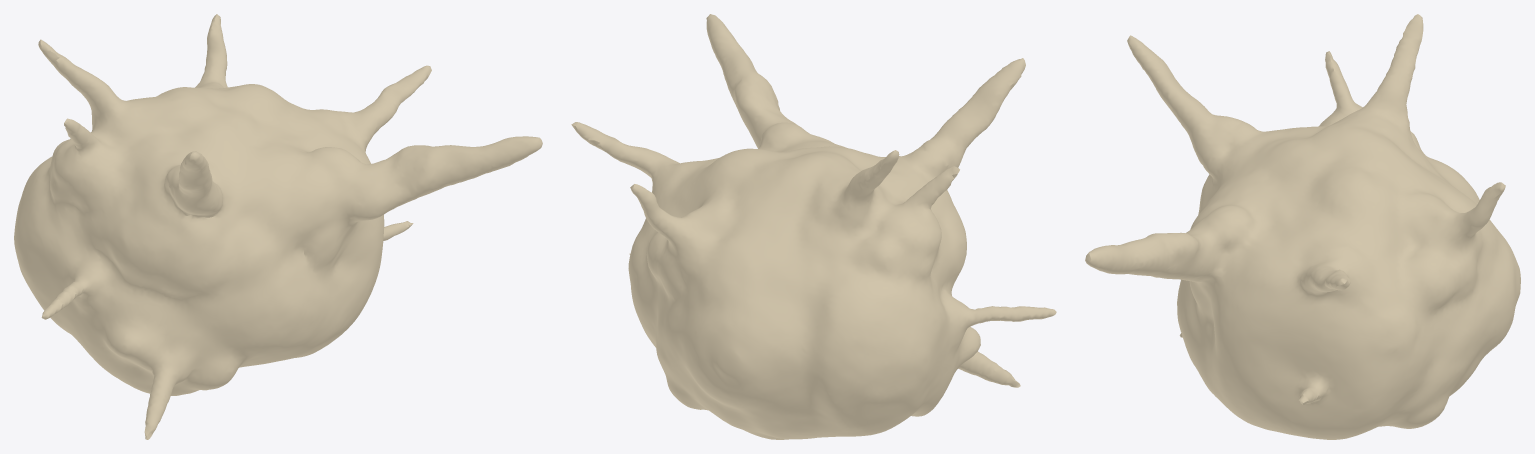
3 views of the same model, side by side, from view 1: azimuth 30°, elevation 25°; view 2: azimuth 150°, elevation 25°; view 3: azimuth 270°, elevation 25° (orthographic). The views are drawn at different scales.
Visible parts, largest first — view 1: Geode; view 2: Geode; view 3: Geode.
Boxes of the visible parts, left/top/right/bottom form: Geode: left=14, top=14, right=542, bottom=439; Geode: left=571, top=14, right=1056, bottom=439; Geode: left=1085, top=14, right=1520, bottom=439.
Bounding box in the file's own units: 67.13 × 48.14 × 56.42.
